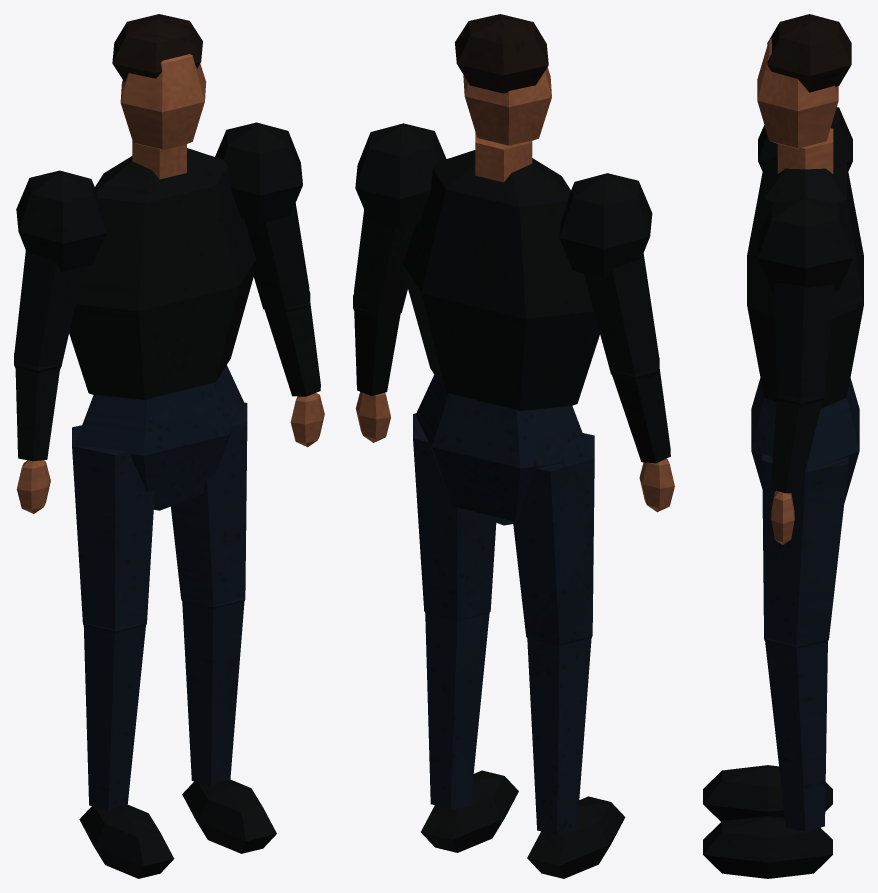
The model's file is PROP-2FF6F916AA1C_lod2.glb.
The picture shows the model from 3 angles, left to right: view 1: azimuth 30°, elevation 25°; view 2: azimuth 150°, elevation 25°; view 3: azimuth 270°, elevation 25°; orthographic projection. The views are drawn at different scales.
Parts seen in each view (by area): view 1: torso.006, thigh.006, calf.006, shoulder.006, pelvis.006, upper_arm.006, shoe.006, forearm.006, head.006, hair_cap.006, hand.006, neck.006; view 2: torso.006, thigh.006, calf.006, shoulder.006, pelvis.006, upper_arm.006, shoe.006, forearm.006, hair_cap.006, head.006, hand.006, neck.006 (+1 smaller); view 3: thigh.006, torso.006, shoe.006, calf.006, shoulder.006, upper_arm.006, hair_cap.006, head.006, pelvis.006, forearm.006, neck.006, hand.006 (+1 smaller).
Part boxes in pixels (x1,y1,x2,y2): torso.006: (69, 148, 256, 400); thigh.006: (72, 402, 247, 629); calf.006: (83, 602, 244, 810); shoulder.006: (16, 122, 302, 271); pelvis.006: (75, 365, 244, 510); upper_arm.006: (14, 203, 309, 367); shoe.006: (79, 779, 276, 878); forearm.006: (15, 303, 320, 461); head.006: (120, 54, 206, 150); hair_cap.006: (112, 14, 202, 82); hand.006: (16, 393, 324, 513); neck.006: (132, 140, 186, 179); torso.006: (403, 150, 599, 410); thigh.006: (413, 413, 594, 644); calf.006: (425, 613, 591, 834); shoulder.006: (355, 123, 652, 277); pelvis.006: (415, 375, 591, 525); upper_arm.006: (353, 209, 658, 374); shoe.006: (421, 770, 625, 878); forearm.006: (354, 312, 670, 463); hair_cap.006: (455, 14, 548, 93); head.006: (463, 67, 551, 145); hand.006: (355, 391, 674, 512); neck.006: (475, 132, 532, 182); thigh.006: (762, 453, 848, 645); torso.006: (747, 156, 863, 408); shoe.006: (703, 765, 832, 878); calf.006: (765, 641, 827, 831); shoulder.006: (758, 107, 852, 291); upper_arm.006: (774, 282, 834, 397); hair_cap.006: (767, 14, 851, 92); head.006: (757, 38, 838, 148); pelvis.006: (751, 378, 859, 502); forearm.006: (771, 399, 822, 493); neck.006: (777, 128, 833, 173); hand.006: (771, 490, 794, 544).
Size of the model in its own units: 0.72 by 1.84 by 0.3218.
Materials: 4 (4 with a texture image).
